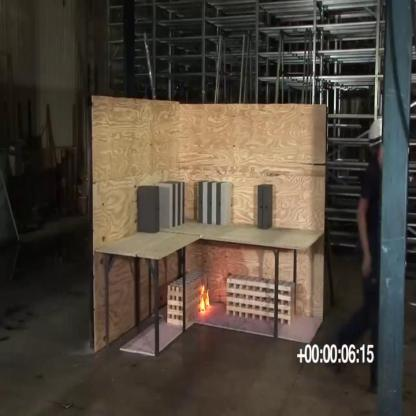fire: (200, 282, 210, 314)
